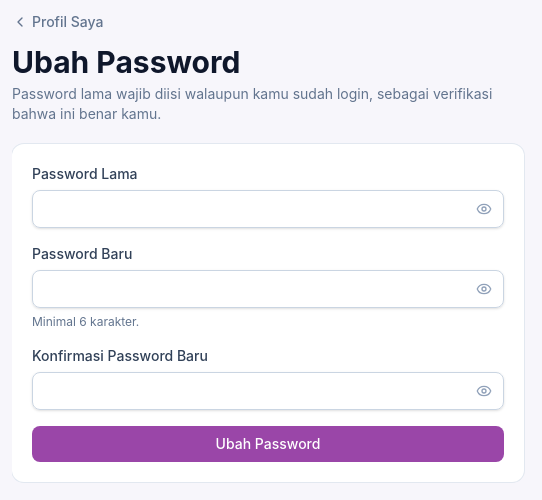
Test case: ChangePasswordPage › menolak password baru yang sama dengan password lama
The width and height of the screenshot is (542, 500).
Step 1. Type "rahasia123" into the password field labelled "Password Lama" → coordinates (268, 209), box [32,190,504,228]
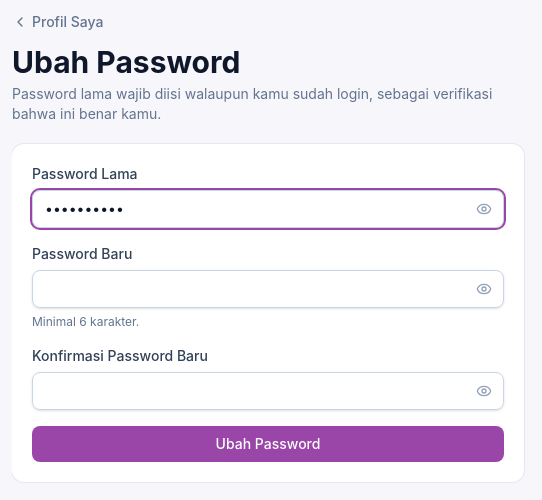
Step 2. Type "rahasia123" into the password field labelled "Password Baru" → coordinates (268, 289), box [32,270,504,308]
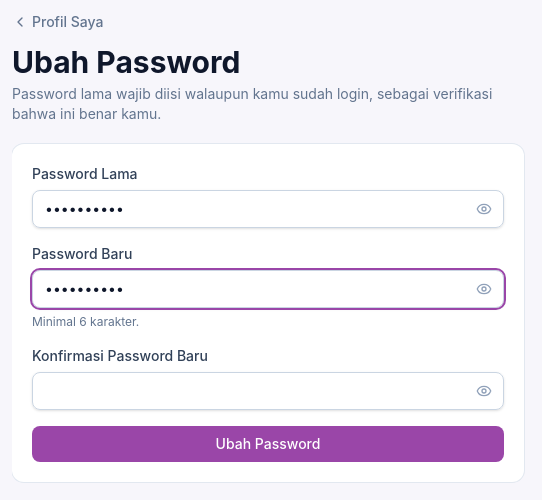
Step 3. Type "rahasia123" into the password field labelled "Konfirmasi Password Baru" → coordinates (268, 391), box [32,372,504,410]
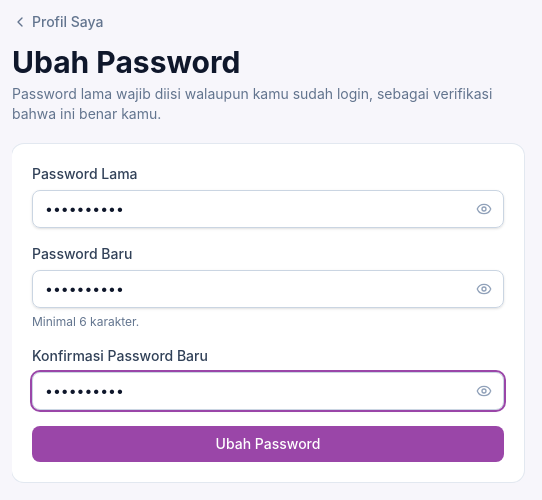
Step 4. Click the button "Ubah Password" → coordinates (268, 444), box [32,426,504,462]
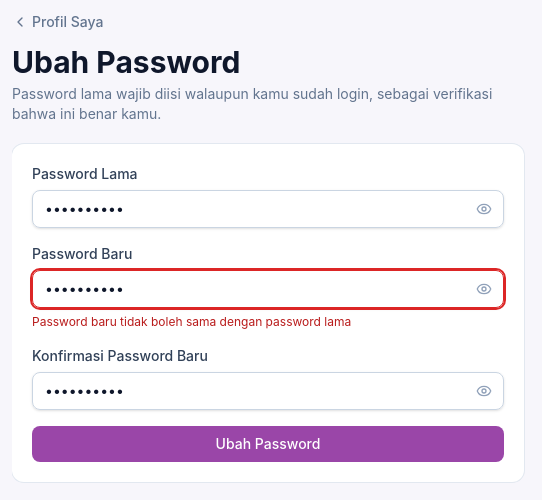
Expected: the text "Password baru tidak boleh sama dengan password lama" is shown, [32,314,351,329]
